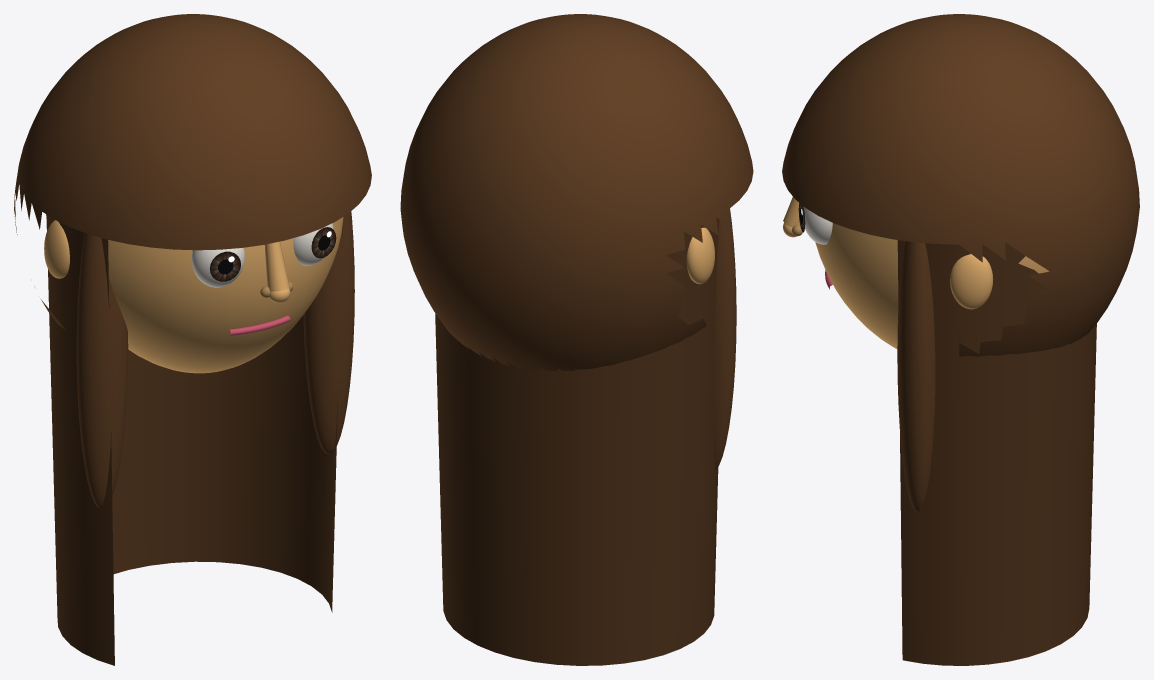
The model's file is femme-04-longs-lisses.glb.
3 renders of one model, left to right at view 1: azimuth 30°, elevation 25°; view 2: azimuth 150°, elevation 25°; view 3: azimuth 270°, elevation 25°, orthographic.
Bounding box in the file's own units: 0.3403 × 0.6205 × 0.3475.
Materials: 12 (1 with a texture image).
